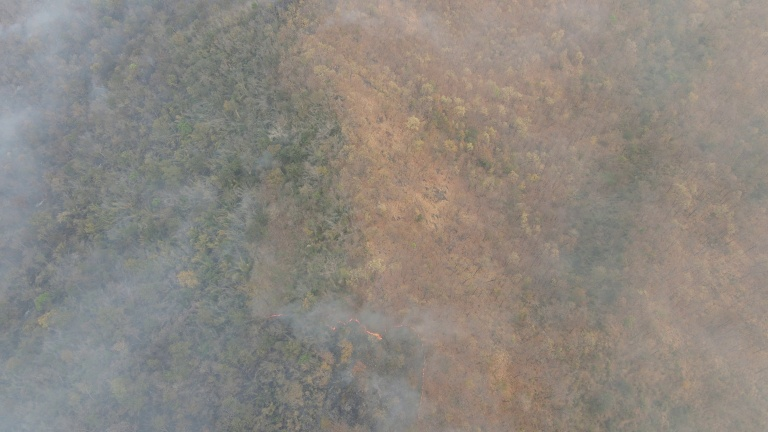fire: (253, 301, 415, 341), (409, 341, 438, 432)
smoke: (1, 1, 225, 431), (250, 285, 479, 432)
